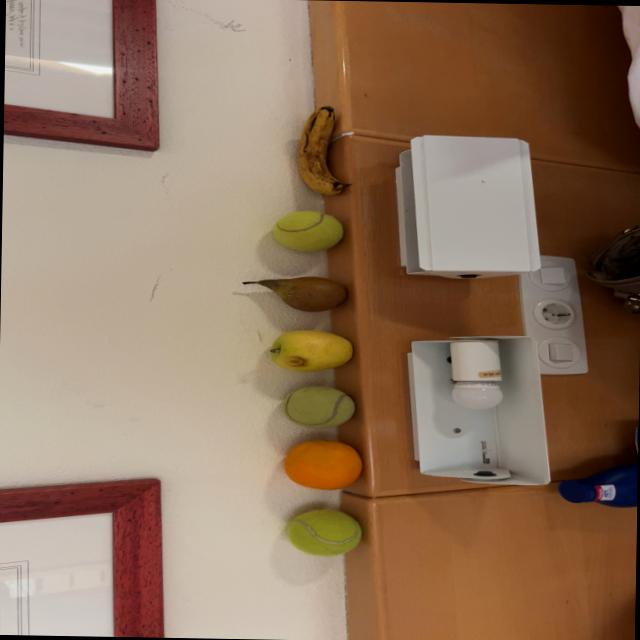apple: (270, 330, 351, 371)
bananas: (298, 106, 350, 194)
orange: (284, 440, 362, 489)
pear: (244, 276, 346, 311)
